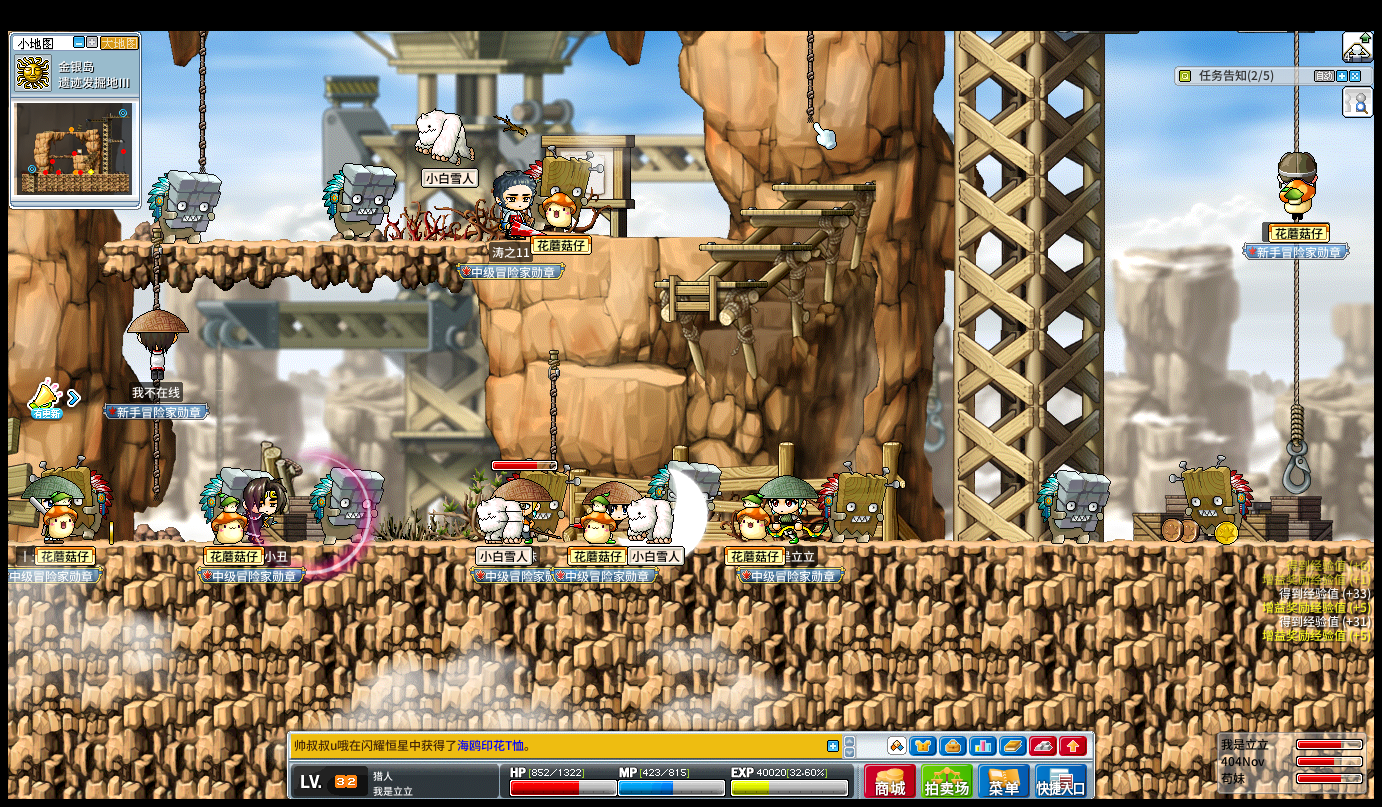floor: (8, 538, 1373, 551), (96, 237, 480, 250), (580, 364, 689, 386), (654, 279, 767, 291), (598, 232, 734, 241), (699, 243, 813, 252), (652, 279, 764, 288), (740, 207, 846, 215), (772, 183, 876, 190)
monster: (1170, 456, 1252, 541), (816, 463, 898, 543), (321, 162, 398, 242), (309, 466, 385, 543), (146, 169, 223, 243), (1038, 468, 1111, 543), (531, 148, 598, 194)
rope: (1292, 257, 1304, 420), (547, 349, 561, 470), (198, 33, 207, 174), (151, 419, 164, 501), (803, 31, 814, 124), (151, 232, 164, 308), (806, 31, 815, 123), (151, 416, 160, 498), (1293, 31, 1299, 151), (1289, 399, 1304, 445)
